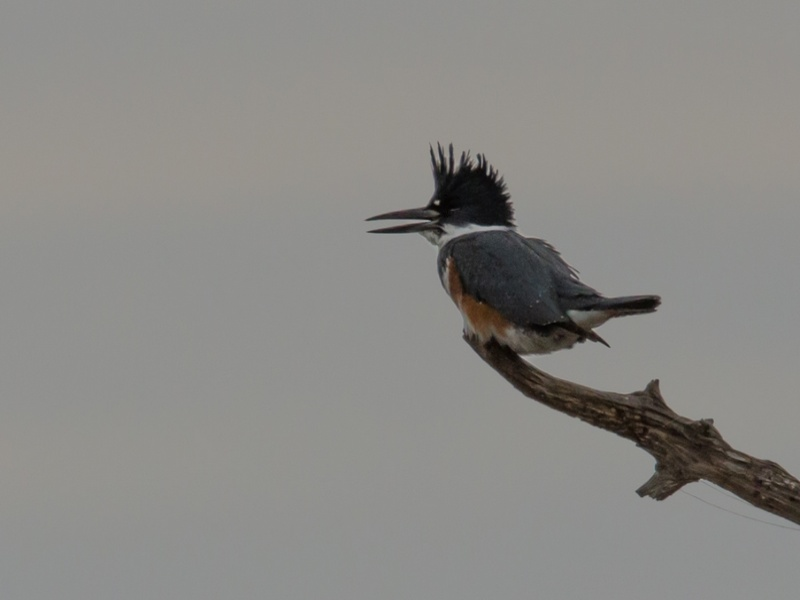kingfisher: (366, 142, 663, 359)
